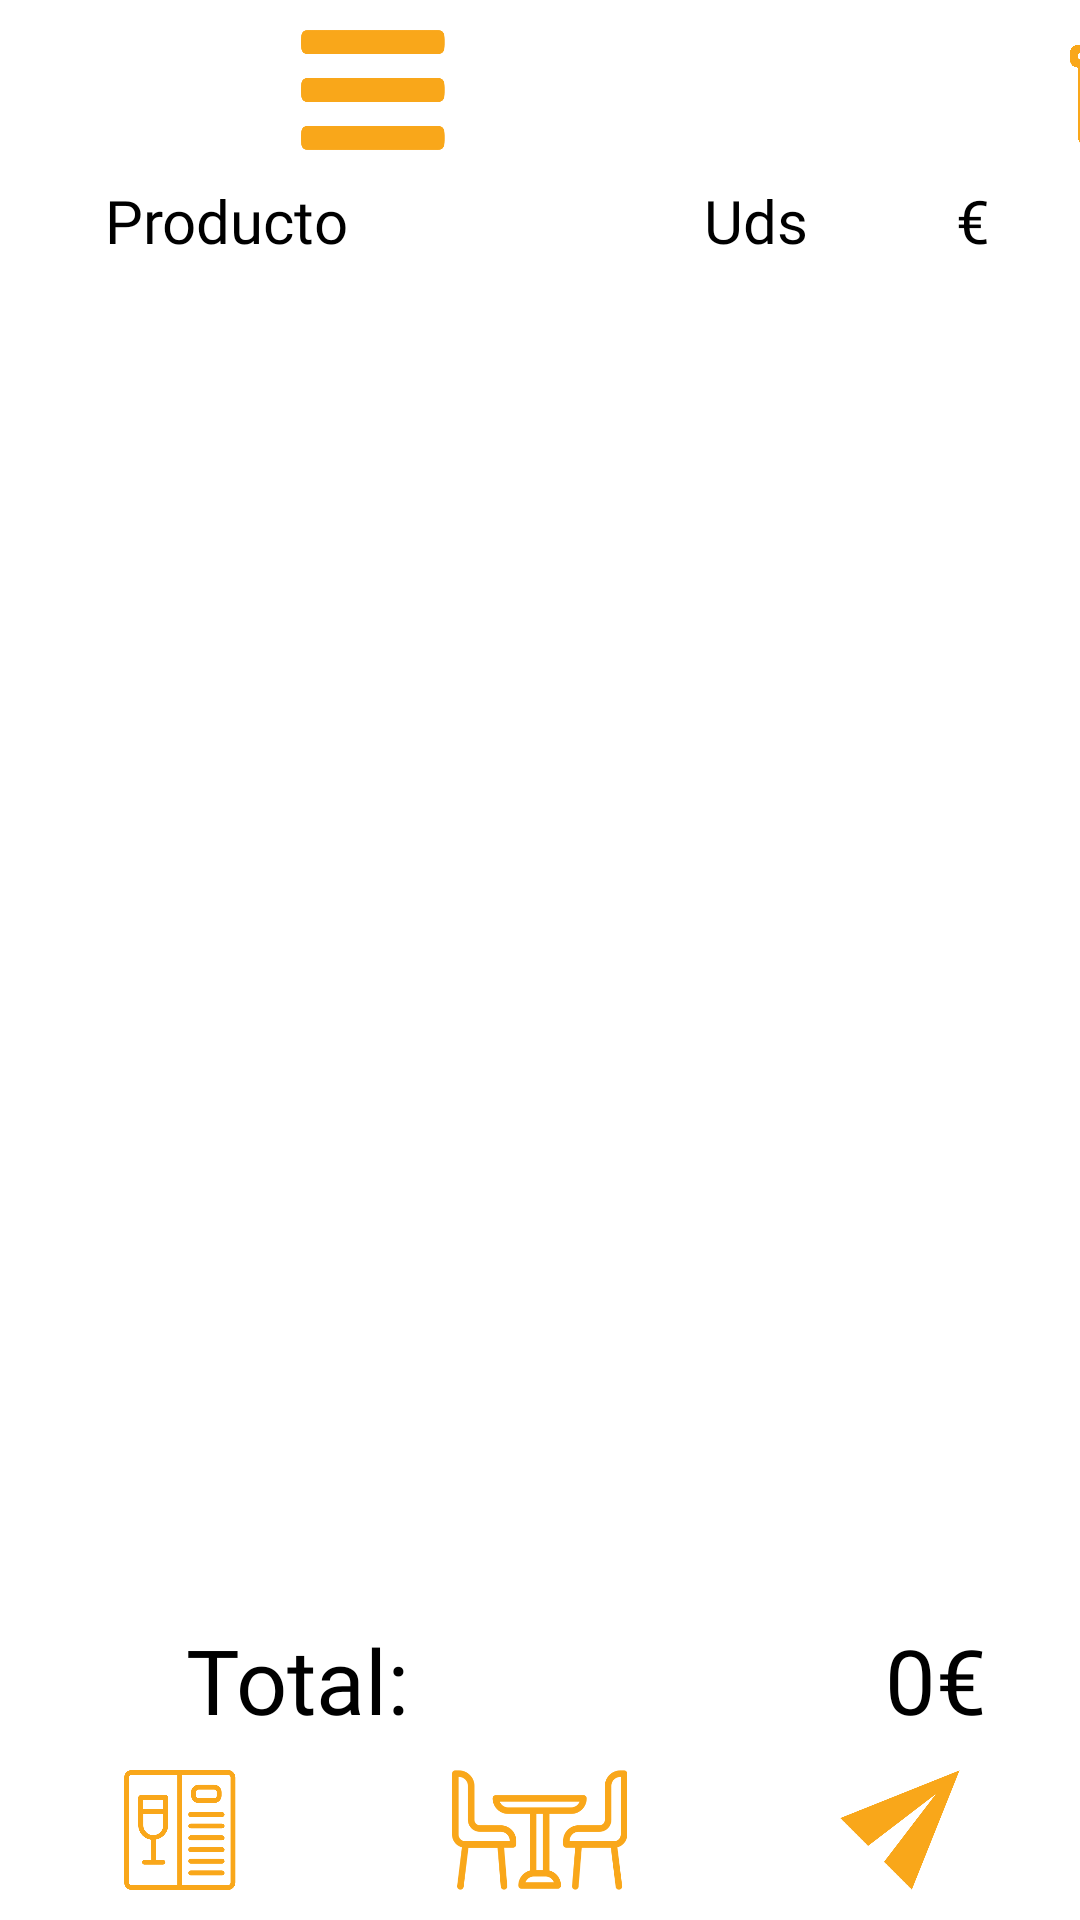

Where icons sit on this 1080x1920 app screen, as (x1, y1, x2, y2):
barras: (301, 30, 445, 150)
carta: (124, 1770, 236, 1890)
enviar: (840, 1770, 960, 1890)
salas: (452, 1770, 627, 1890)
